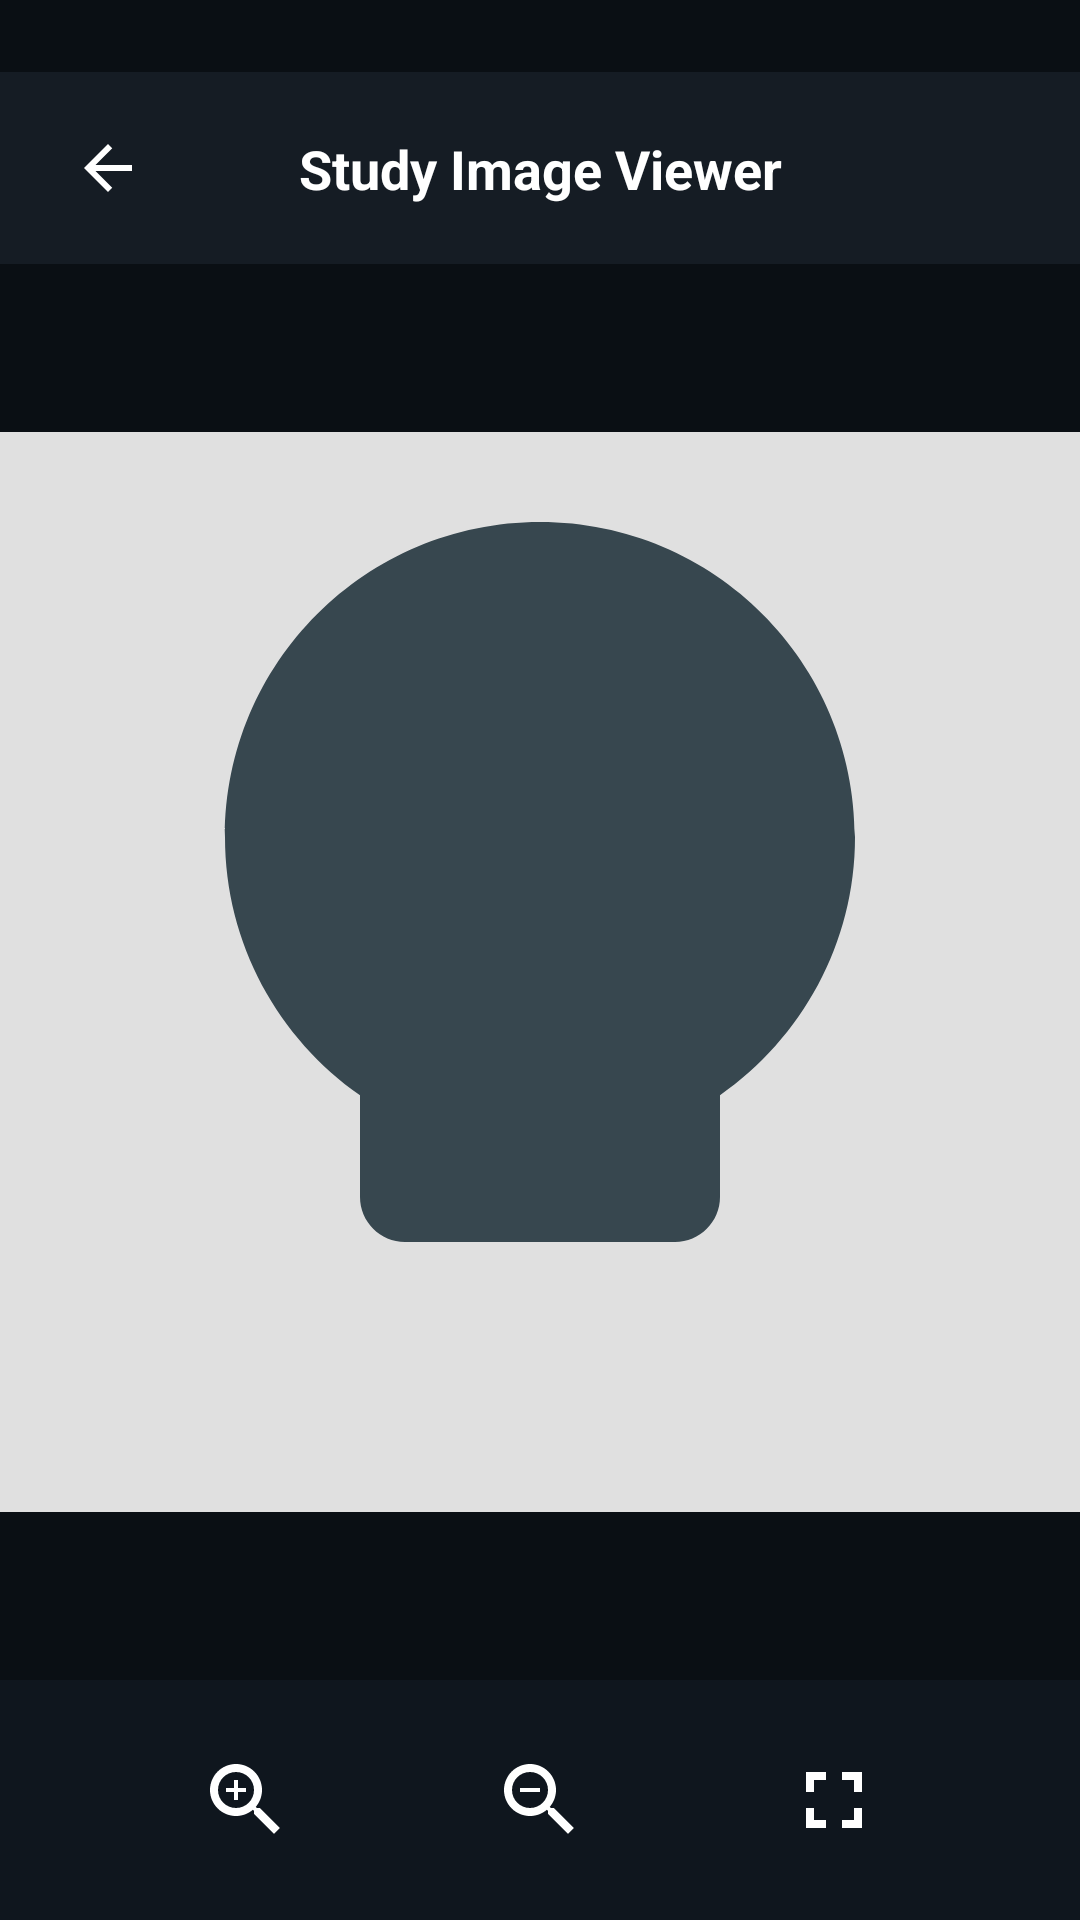

Icon click points for this 1080*1920 phone screenshot, format (x=x, y=y):
back: (x=108, y=168)
fullscreen: (x=834, y=1800)
zoom in: (x=245, y=1799)
zoom out: (x=539, y=1799)
